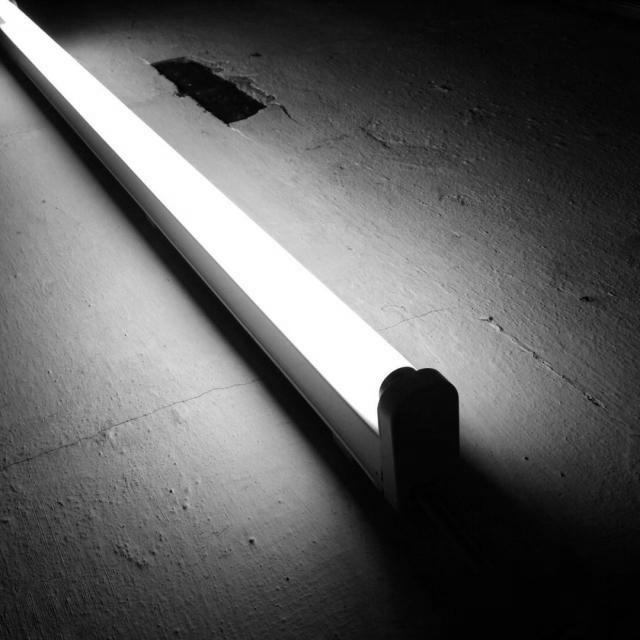light: (0, 0, 461, 511)
